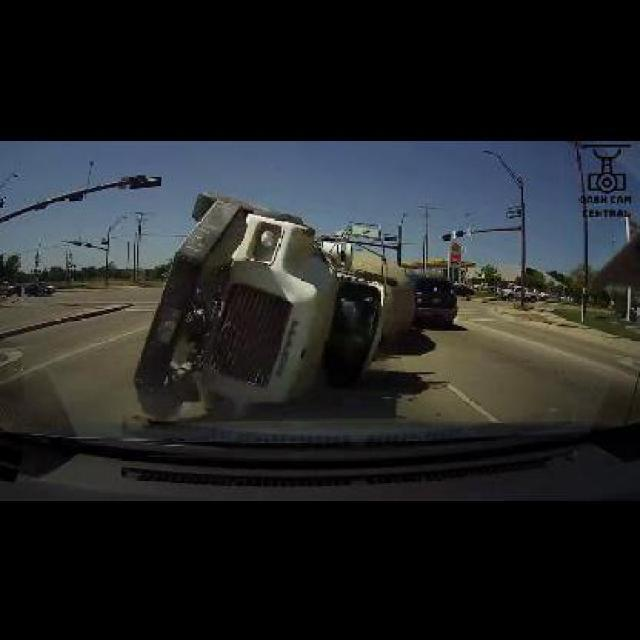accident: (122, 179, 422, 424)
